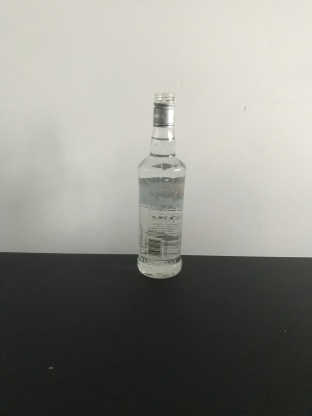nakretka: (150, 90, 177, 128)
